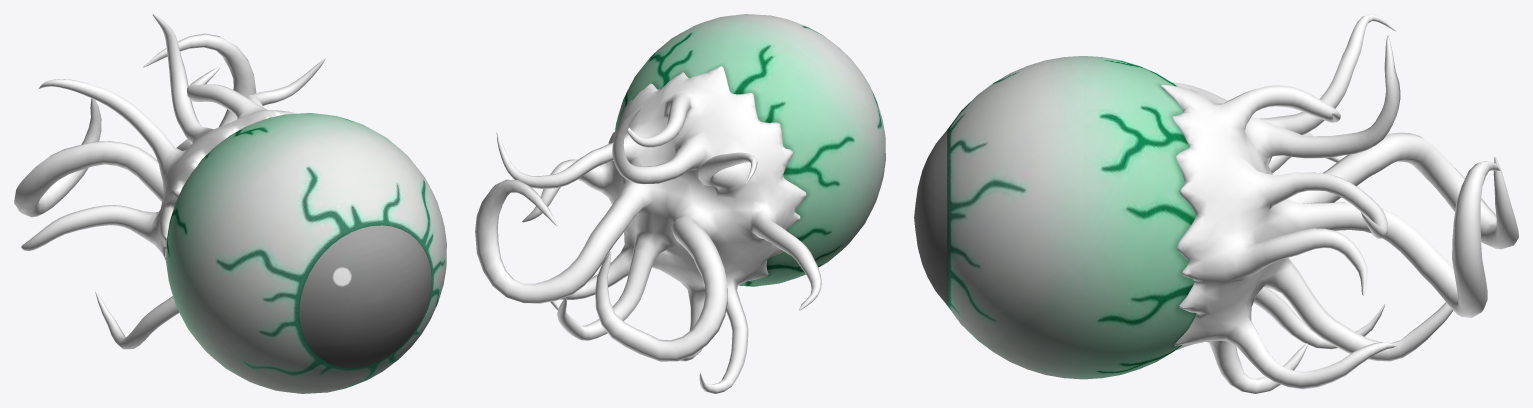
File: yakushimaboss001_green_df77c8.glb
The picture shows the model from 3 angles, left to right: view 1: azimuth 30°, elevation 25°; view 2: azimuth 150°, elevation 25°; view 3: azimuth 270°, elevation 25°; orthographic projection. The views are drawn at different scales.
Size of the model in its own units: 3.43 by 3.17 by 4.93.
Materials: 5 (4 with a texture image).
